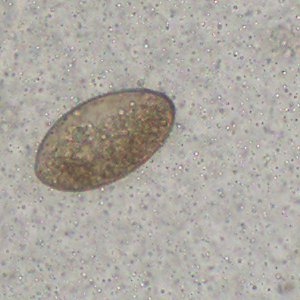Fasciola_hepatica_egg: (33, 87, 177, 194)
